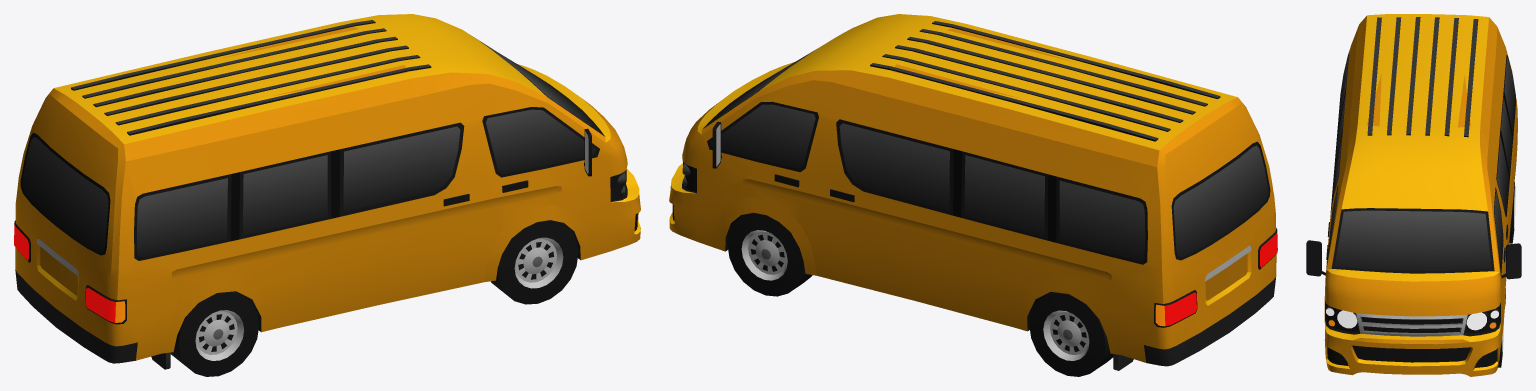
Rendered from Car_020.glb.
3 views of the same model, side by side, from view 1: azimuth 30°, elevation 25°; view 2: azimuth 150°, elevation 25°; view 3: azimuth 270°, elevation 25° (orthographic). The views are drawn at different scales.
Parts seen in each view (by area): view 1: Car_020, wheel_3_Car_020_Wheel_3R, wheel_1_Car_020_Wheel_2R; view 2: Car_020, wheel_2_Car_020_Wheel_3L, wheel_0_Car_020_Wheel_1L; view 3: Car_020, wheel_2_Car_020_Wheel_3L.
Part boxes in pixels (left/top/right/bottom): Car_020: left=14, top=14, right=640, bottom=369; wheel_3_Car_020_Wheel_3R: left=170, top=291, right=259, bottom=376; wheel_1_Car_020_Wheel_2R: left=491, top=220, right=578, bottom=304; Car_020: left=669, top=14, right=1277, bottom=370; wheel_2_Car_020_Wheel_3L: left=1029, top=292, right=1113, bottom=376; wheel_0_Car_020_Wheel_1L: left=727, top=212, right=812, bottom=296; Car_020: left=1306, top=14, right=1521, bottom=376; wheel_2_Car_020_Wheel_3L: left=1509, top=182, right=1515, bottom=243.
Bounding box in the file's own units: 5.45 × 2.32 × 2.3.
Materials: 2 (2 with a texture image).
